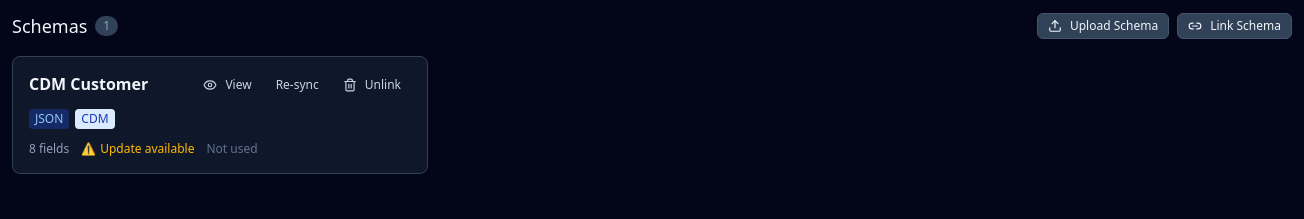
it: SchemaManagementSection › CDM card shows Re-sync and Unlink actions only (plus View)
Expected: the button with aria-label "view schema cdm customer" is shown, [193,73,262,97]
Expected: the button with aria-label "unlink schema cdm customer" is shown, [333,73,411,97]
Step 1. Click the button with aria-label "re-sync schema cdm customer" → (297, 85), box [266,73,329,97]
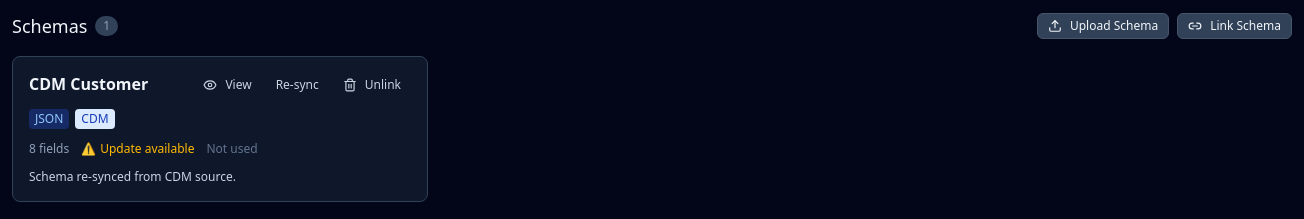
Expected: the message with test id "resync-success" reads "Schema re-synced from CDM source.", [29,168,236,185]
